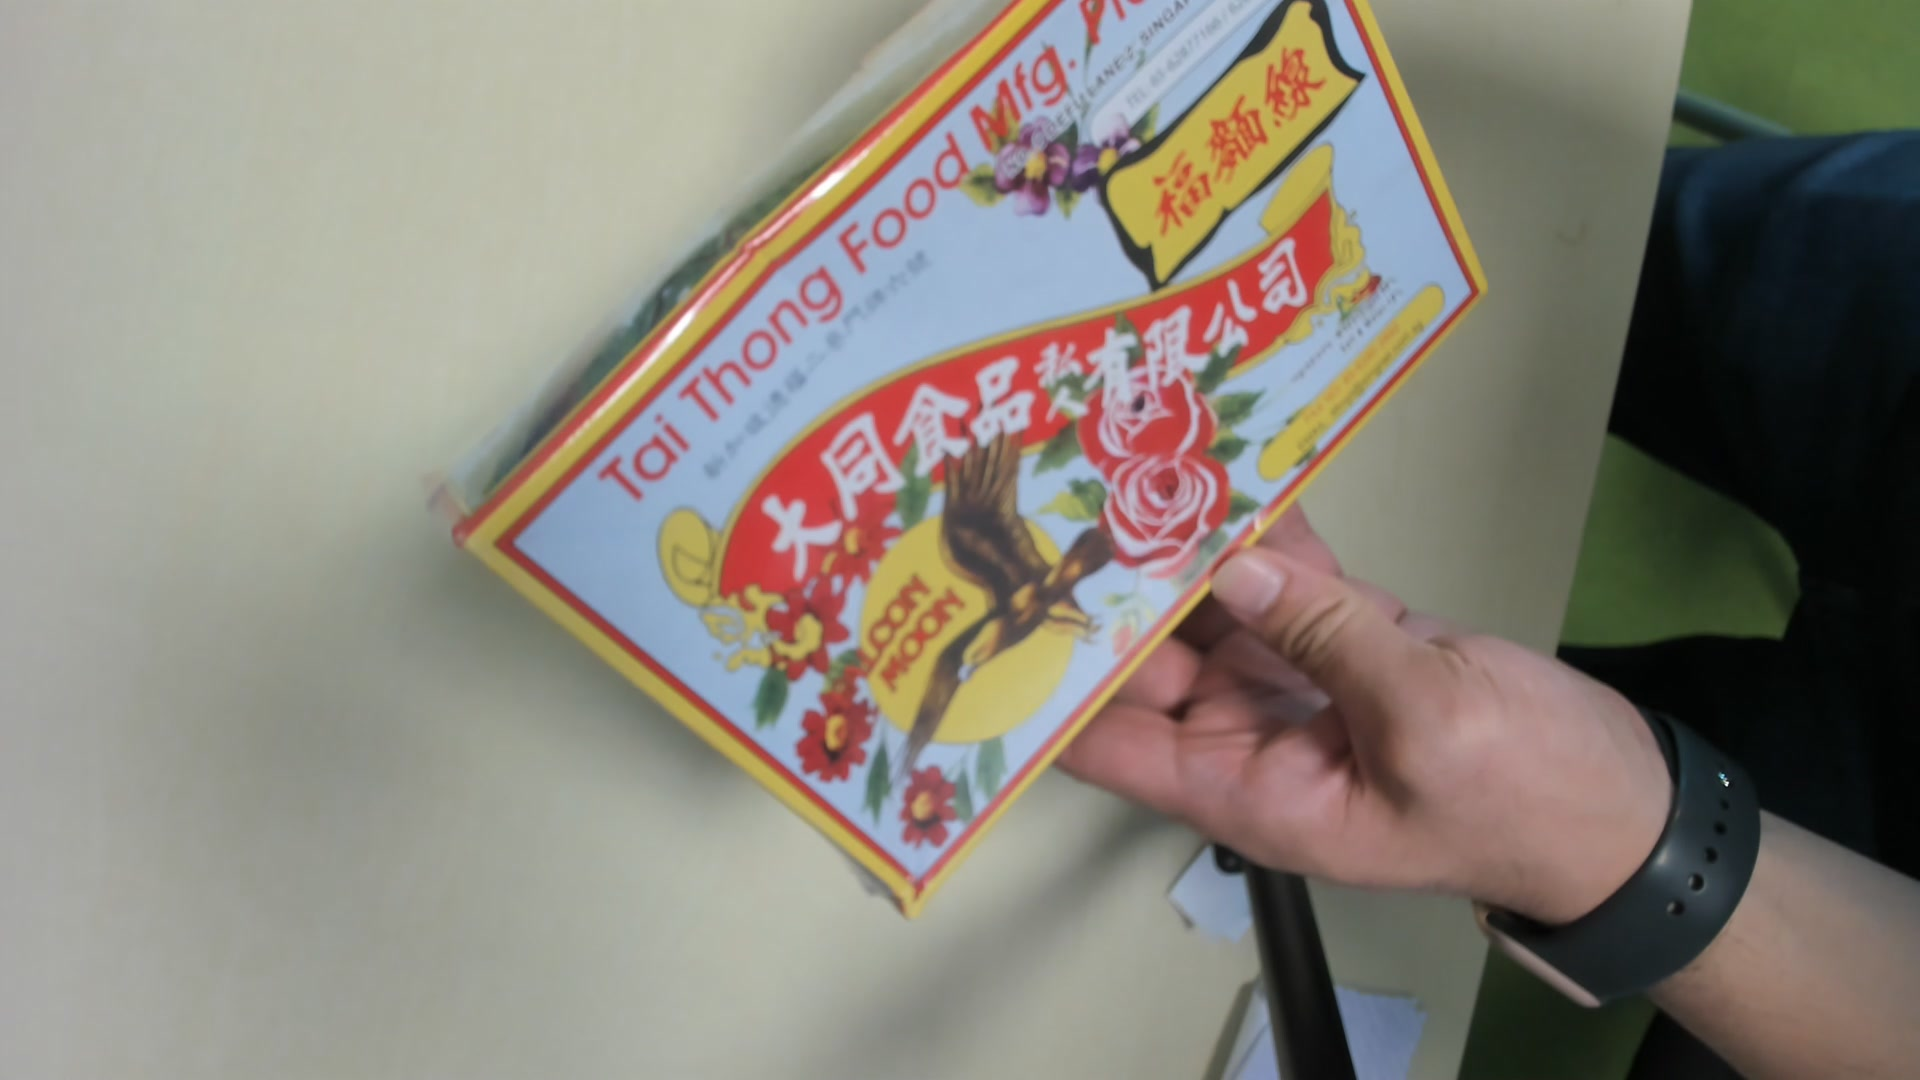BeeHoonVermicelli_0-99g_NonHalal_NonHealthy: (440, 7, 1487, 903)
